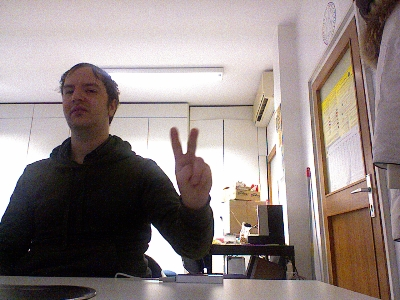剪刀: (167, 124, 213, 208)
